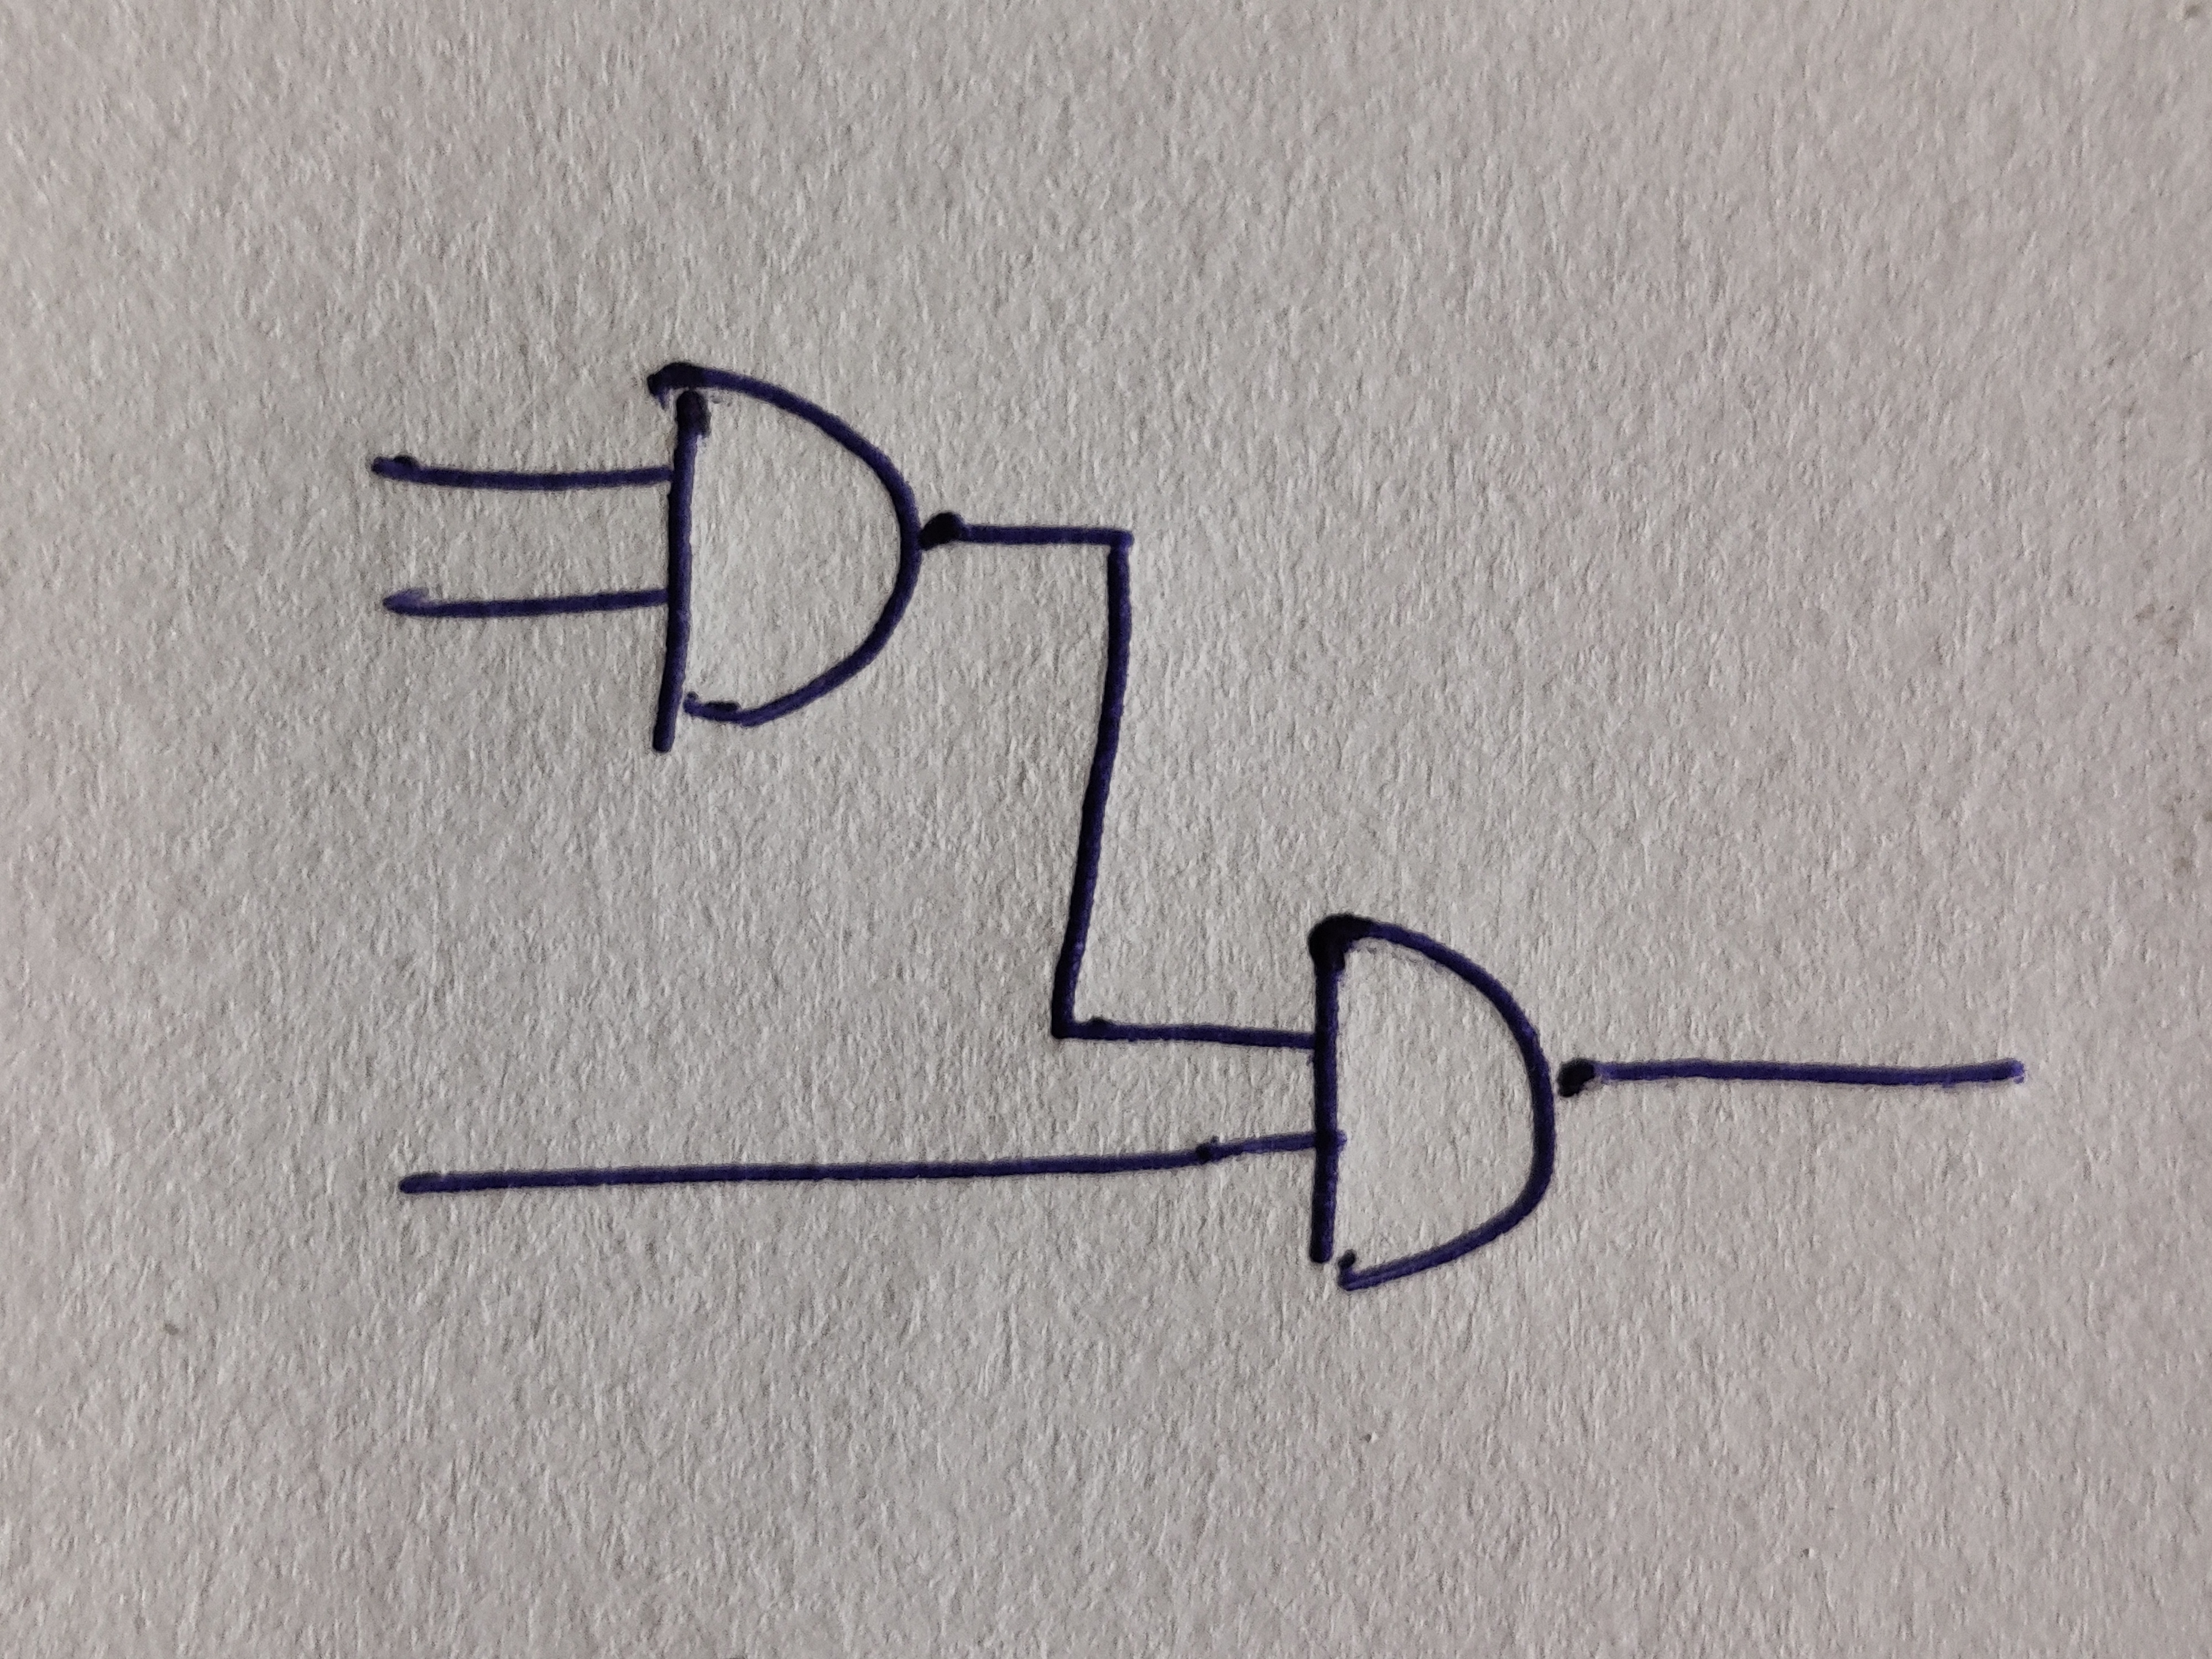and: (646, 362, 923, 753), (1308, 915, 1555, 1295)
